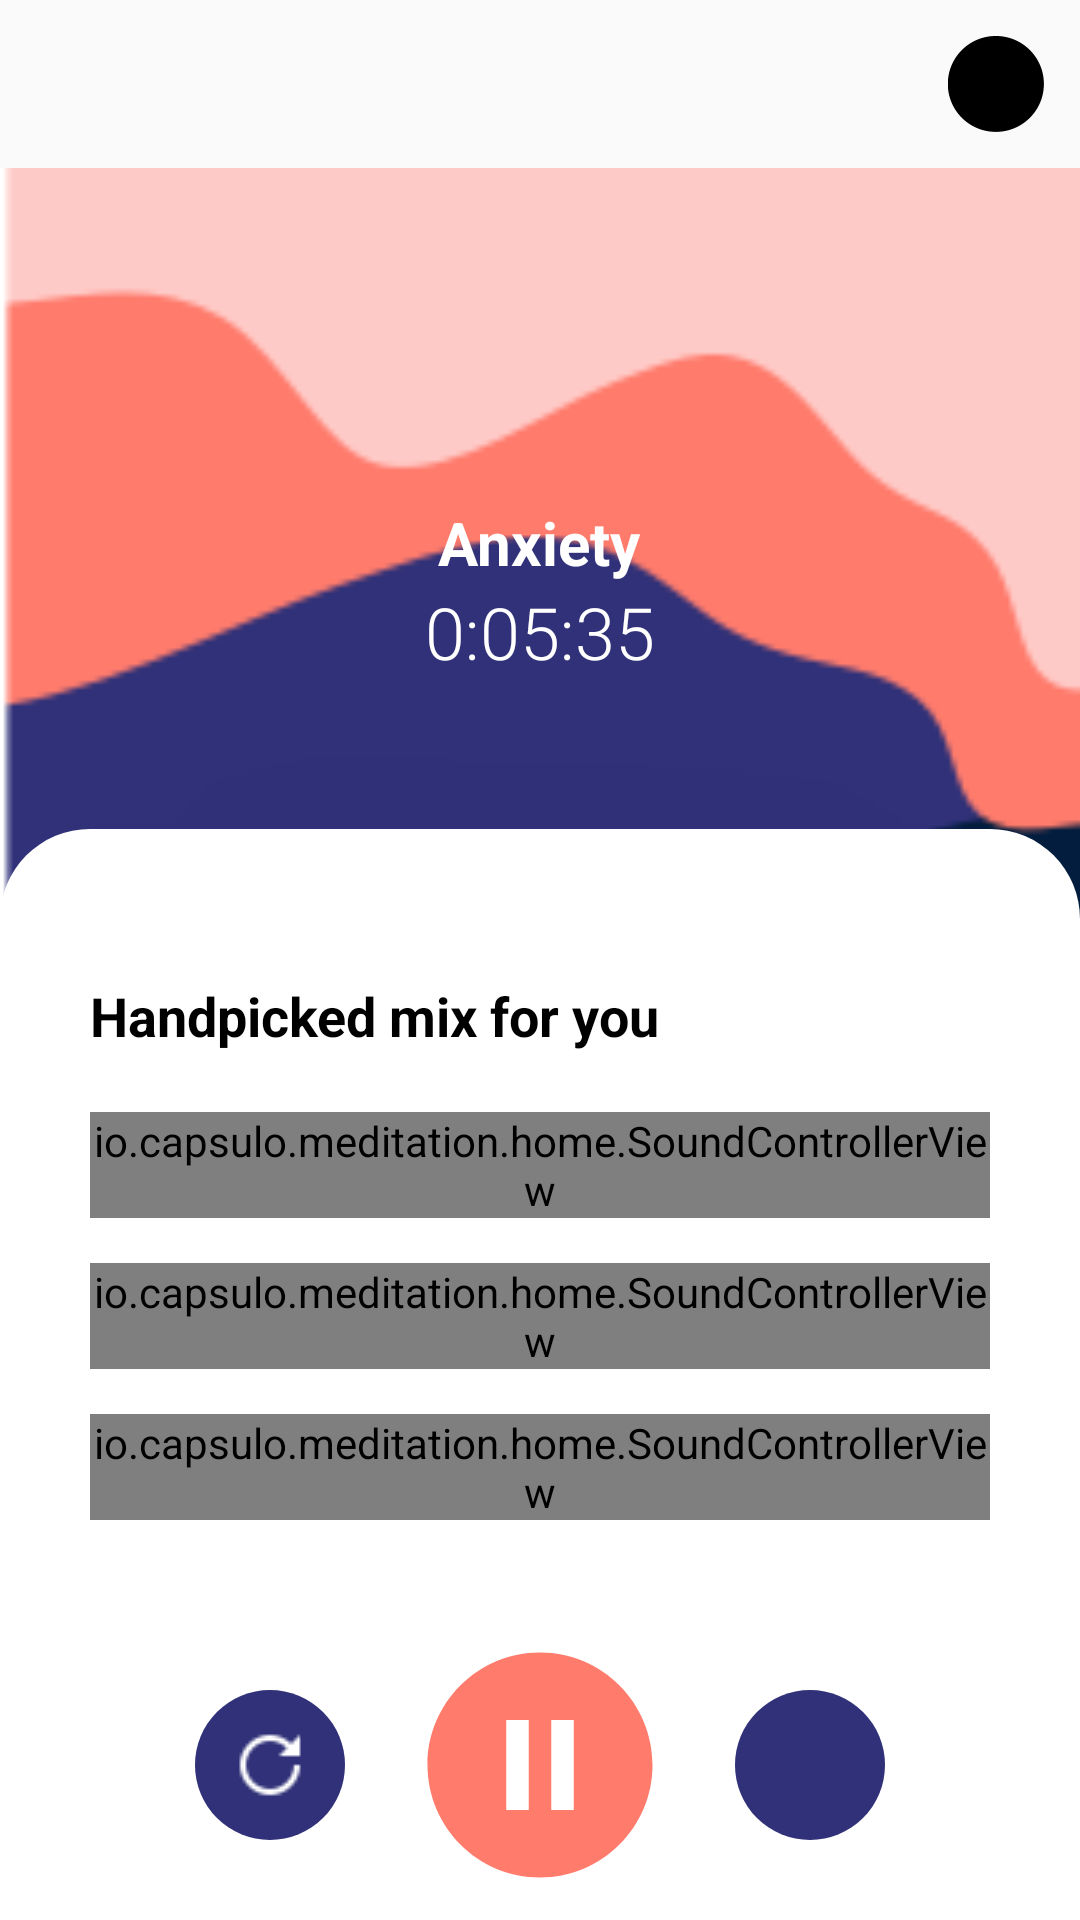

Icon bounding boxes for this 1080 × 1920 phone screenshot, format BBox(x1, y1, x2, y2):
pause circle: BBox(427, 1652, 653, 1878)
reset: BBox(195, 1690, 345, 1840)
